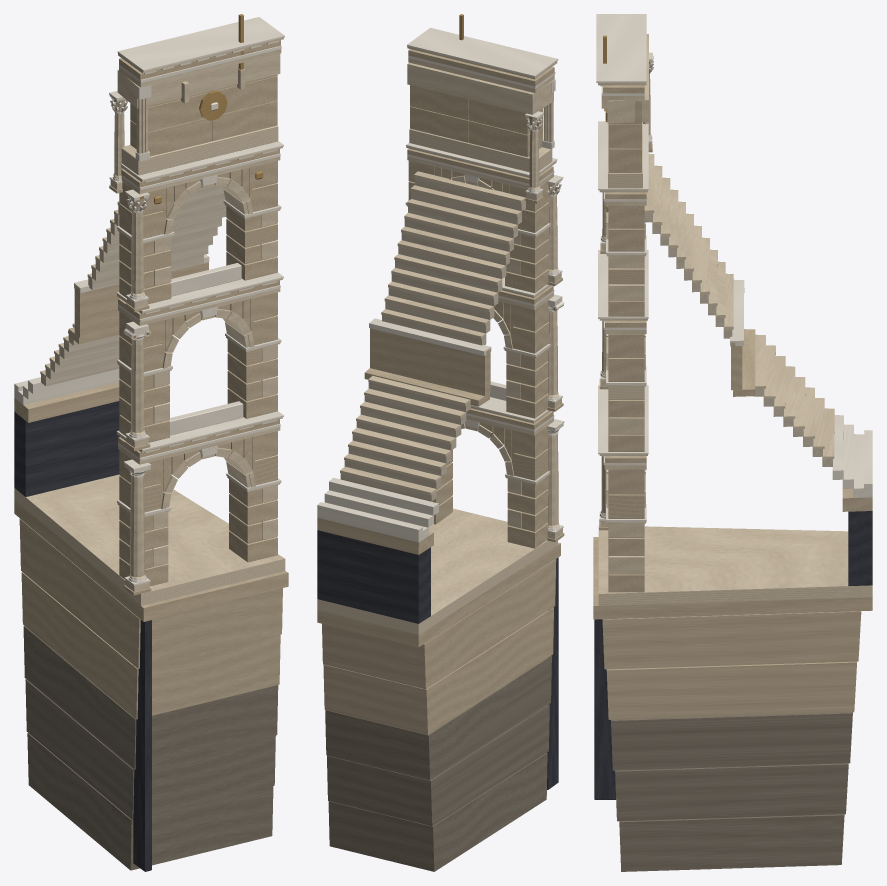
The model's file is UMOD_02_Standard_Clipeus_Bay.obj.
3 views of the same model, side by side, from view 1: azimuth 30°, elevation 25°; view 2: azimuth 150°, elevation 25°; view 3: azimuth 270°, elevation 25° (orthographic). The views are drawn at different scales.
Visible parts, largest first — view 1: UMOD_02_Standard_Clipeus_Bay; view 2: UMOD_02_Standard_Clipeus_Bay; view 3: UMOD_02_Standard_Clipeus_Bay.
Part boxes in pixels (x1,y1,x2,y2): UMOD_02_Standard_Clipeus_Bay: (14,14,288,871); UMOD_02_Standard_Clipeus_Bay: (317,14,564,871); UMOD_02_Standard_Clipeus_Bay: (593,14,872,871).
Size of the model in its own units: 18.47 by 96.54 by 29.95.
Materials: 7 (7 with a texture image).
